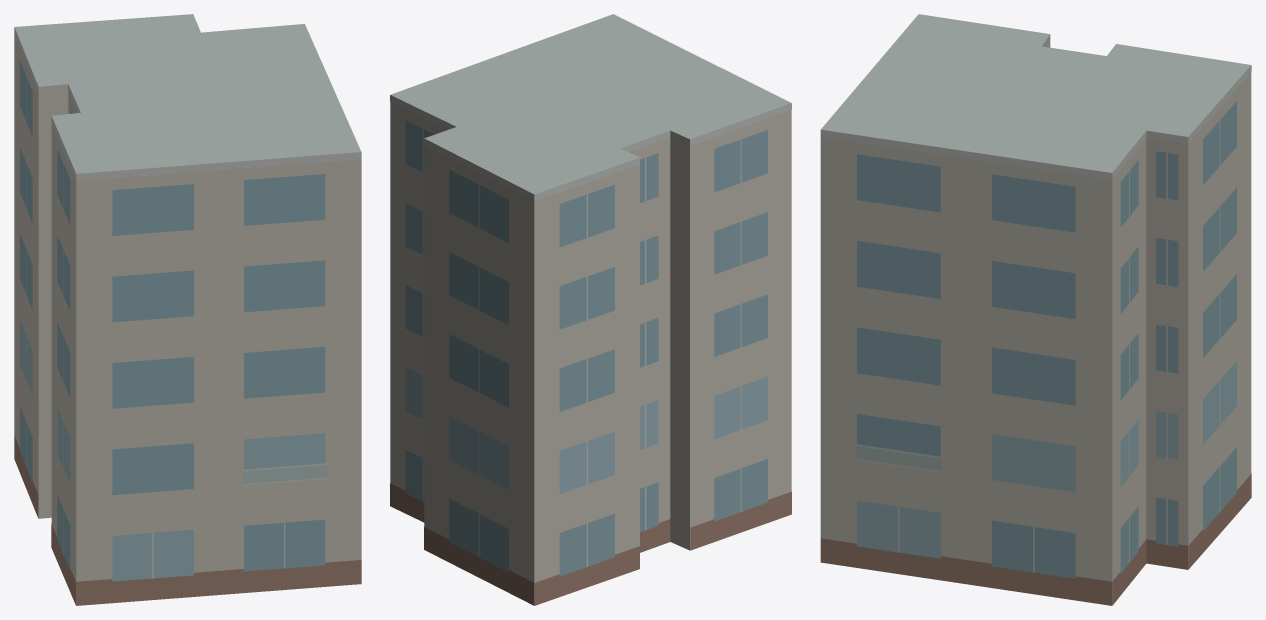
Rendered from survey-upis-32692757.glb.
3 views of the same model, side by side, from view 1: azimuth 30°, elevation 25°; view 2: azimuth 150°, elevation 25°; view 3: azimuth 270°, elevation 25° (orthographic). The views are drawn at different scales.
Visible parts, largest first — view 1: survey-upis-32692757.tmp; view 2: survey-upis-32692757.tmp; view 3: survey-upis-32692757.tmp.
Boxes of the visible parts, box(x1,y1,x2,y2) form: survey-upis-32692757.tmp: box(14, 14, 361, 605); survey-upis-32692757.tmp: box(390, 14, 791, 605); survey-upis-32692757.tmp: box(820, 14, 1251, 605).
Size of the model in its own units: 11.63 by 14.75 by 13.31.
